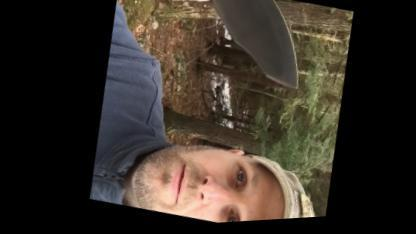knife: (158, 0, 321, 106)
